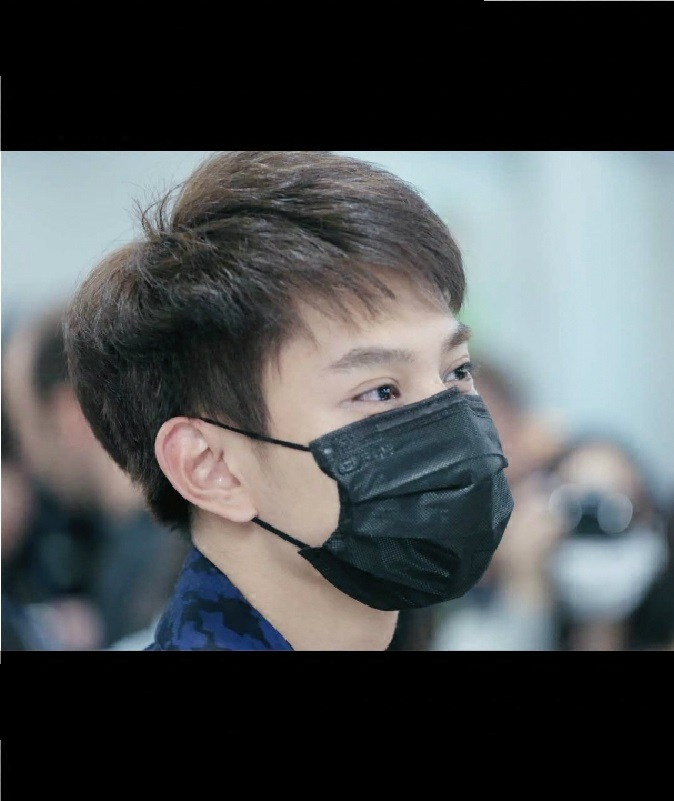face_mask: (254, 248, 516, 606)
